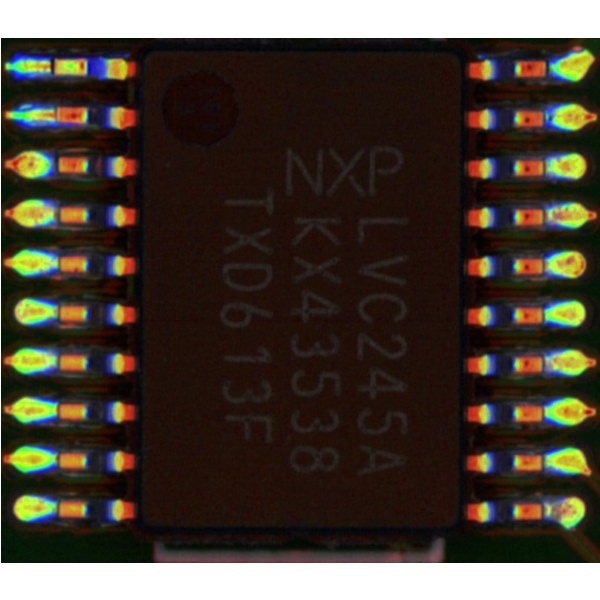Bad_podu: (36, 60, 61, 73), (40, 109, 61, 121)
